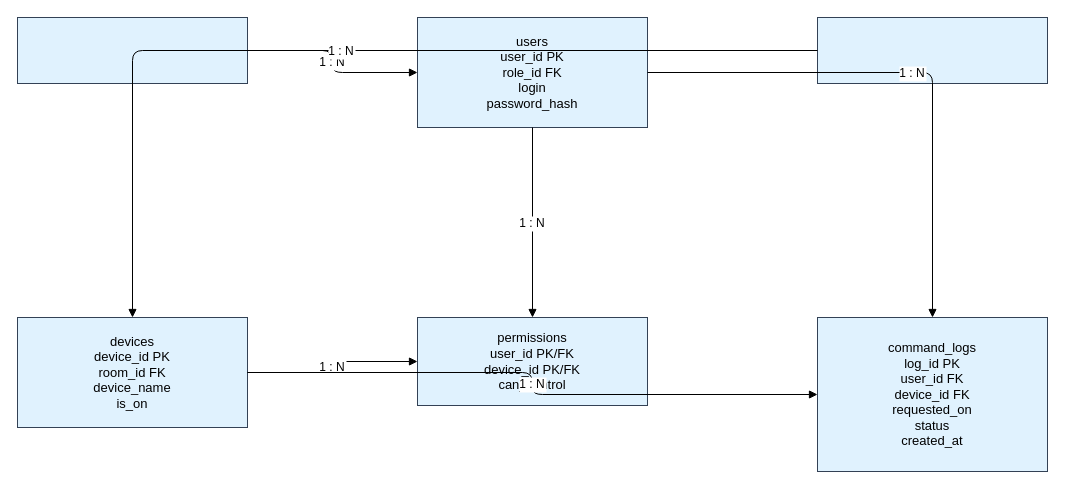
Some shapes in this 1065 by 489 pixel diagram are drawn without their labels. Each missing label, with the centre of its shape:
roles role_id PK role_name: (132,50)
rooms room_id PK room_name: (932,50)
